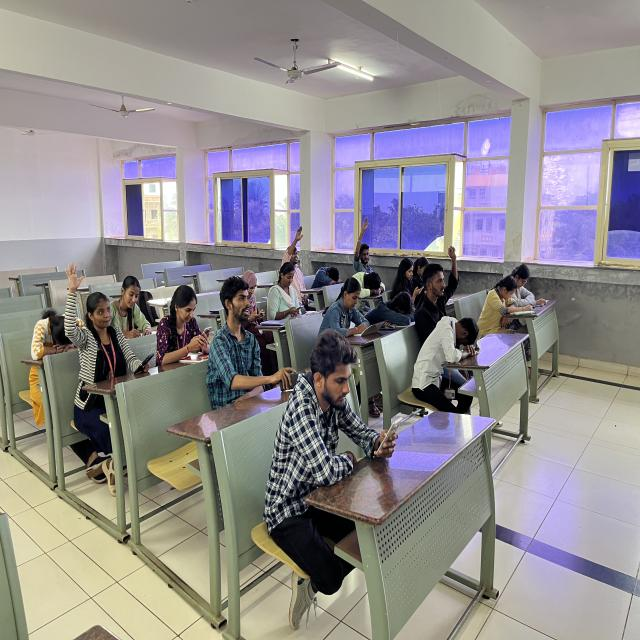Hand Rising: (55, 254, 129, 436), (348, 215, 382, 276), (282, 224, 310, 286)
Reading: (476, 272, 536, 328), (506, 259, 548, 314)
Sleeping: (408, 310, 491, 371), (24, 305, 86, 361), (363, 288, 419, 331), (348, 266, 391, 302), (309, 262, 346, 290)
Using Phone: (265, 326, 395, 488), (147, 283, 217, 357), (266, 264, 309, 325), (241, 267, 269, 337), (391, 252, 426, 300)
Writing: (103, 268, 160, 348), (316, 277, 384, 335)
